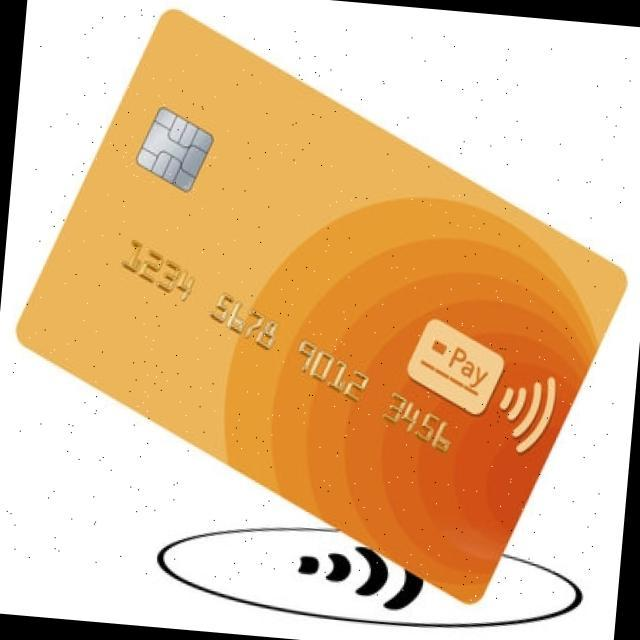payment_card: (15, 13, 625, 602)
